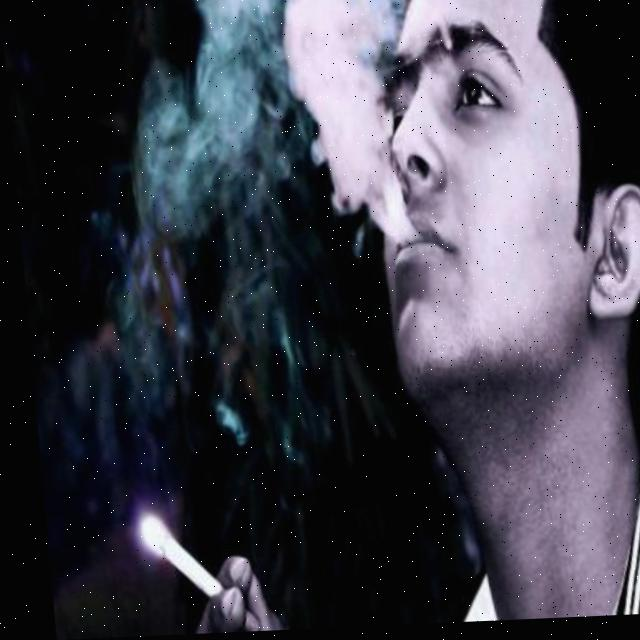cigarette: (133, 513, 250, 635)
